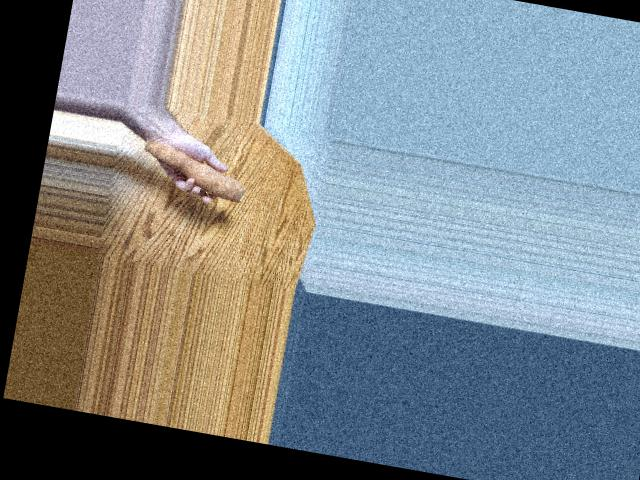sweet_potato: (139, 136, 250, 206)
